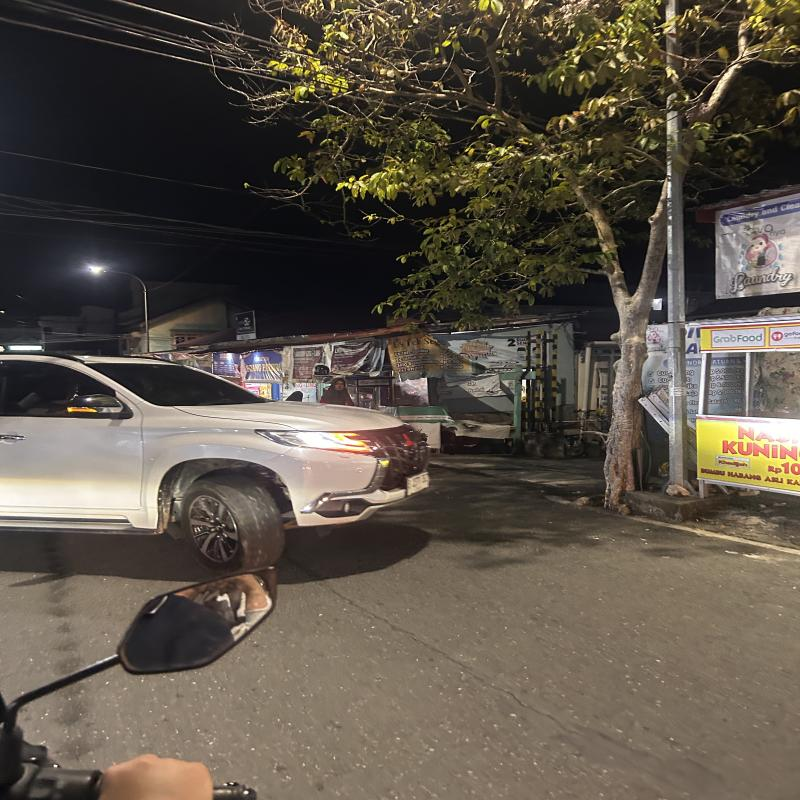license plate on a car: (407, 473, 435, 492)
